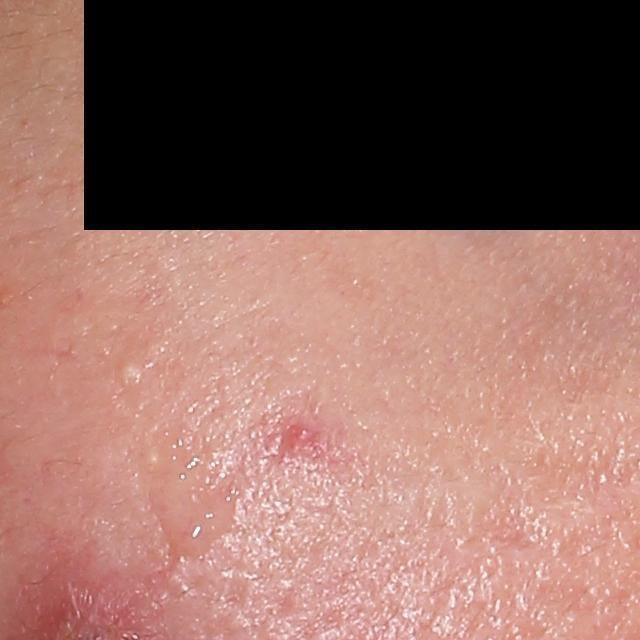comedo: (113, 357, 144, 383)
papule: (286, 422, 318, 446)
